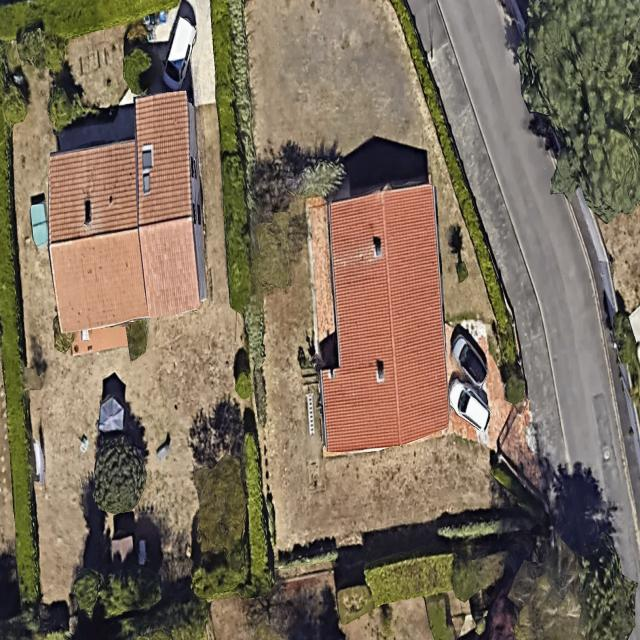maison: (39, 91, 207, 333), (309, 183, 451, 453)
